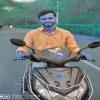motorcycles: (15, 45, 97, 100)
